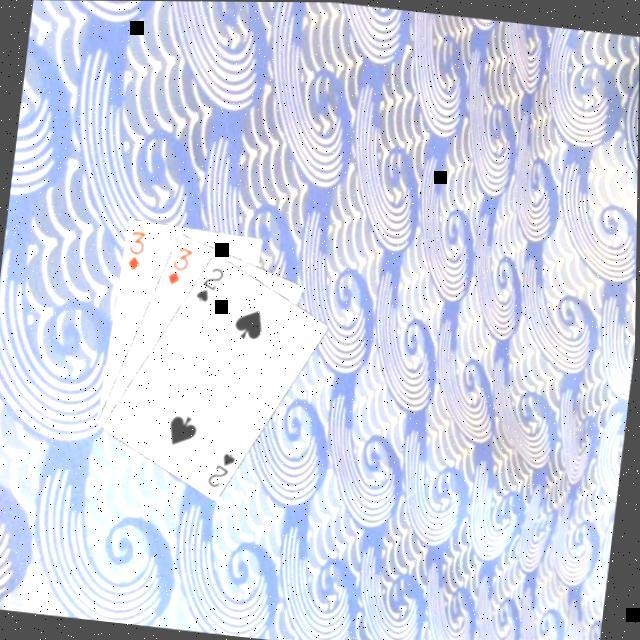2S: (192, 260, 230, 306), (204, 446, 242, 491)
3D: (164, 240, 198, 288), (124, 226, 150, 274)
